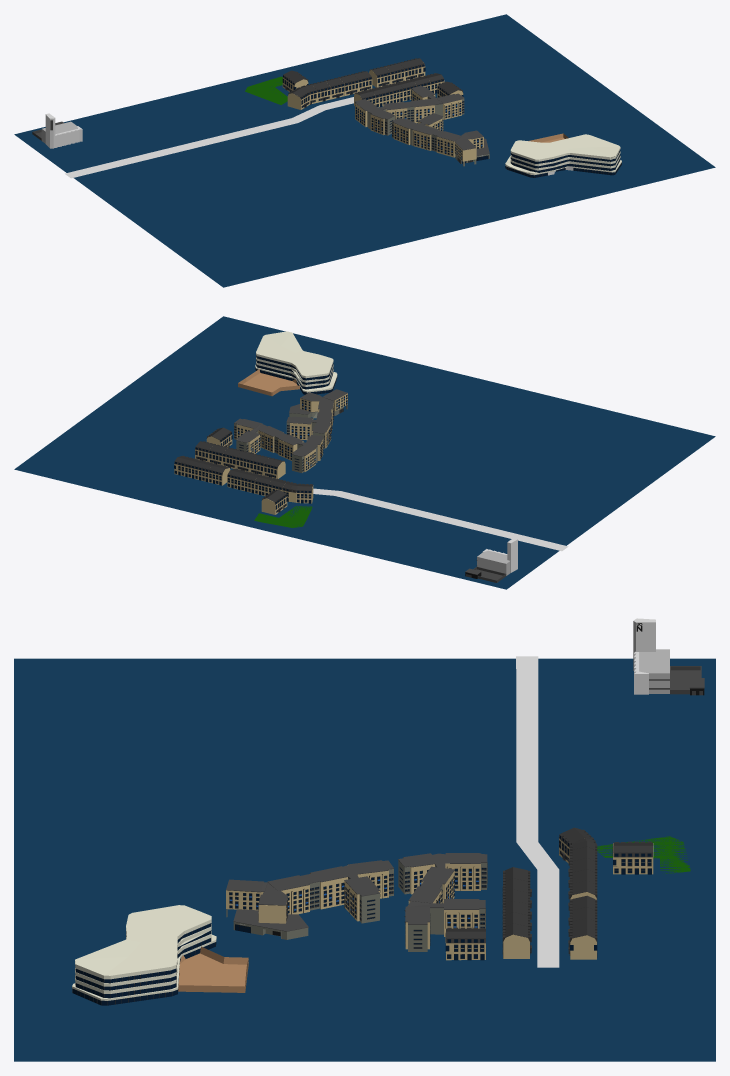
Rendered from PowerUnit.glb.
3 views of the same model, one above another, from view 1: azimuth 30°, elevation 25°; view 2: azimuth 150°, elevation 25°; view 3: azimuth 270°, elevation 25° (orthographic). The views are drawn at different scales.
Parts seen in each view (by area): view 1: Plane.002, CHWhiteBorder, Plane.003, CreativeHubTop, MailOfficeGrass; view 2: Plane.002, CHWhiteBorder, Plane.003, Cube.012, MailOfficeGrass, CreativeHubTop, PowerBaseBlock.001; view 3: Plane.002, Plane.003, CHWhiteBorder, Cube.012, CreativeHubTop, MailOfficeGrass, PowerBaseBlock.001, Cube.014, MainBlock.013, Cube.013, CreativeHubBase.
Boxes of the visible parts, box(x1,y1,x2,y2) form: Plane.002: box(14, 14, 715, 287); CHWhiteBorder: box(510, 134, 620, 170); Plane.003: box(65, 80, 444, 178); CreativeHubTop: box(511, 150, 620, 172); MailOfficeGrass: box(245, 76, 287, 104); Plane.002: box(14, 316, 715, 589); CHWhiteBorder: box(256, 331, 333, 386); Plane.003: box(313, 488, 568, 551); Cube.012: box(238, 369, 299, 396); MailOfficeGrass: box(254, 506, 312, 527); CreativeHubTop: box(256, 355, 332, 389); PowerBaseBlock.001: box(477, 550, 510, 575); Plane.002: box(14, 658, 715, 1061); Plane.003: box(516, 656, 559, 967); CHWhiteBorder: box(75, 905, 211, 993); Cube.012: box(178, 946, 248, 992); CreativeHubTop: box(76, 923, 210, 998); MailOfficeGrass: box(597, 836, 690, 873); PowerBaseBlock.001: box(639, 649, 669, 693); Cube.014: box(670, 666, 704, 695); MainBlock.013: box(233, 909, 308, 931); Cube.013: box(633, 618, 655, 671); CreativeHubBase: box(72, 942, 216, 1005).
Bounding box in the file's own units: 408 × 24.45 × 299.
